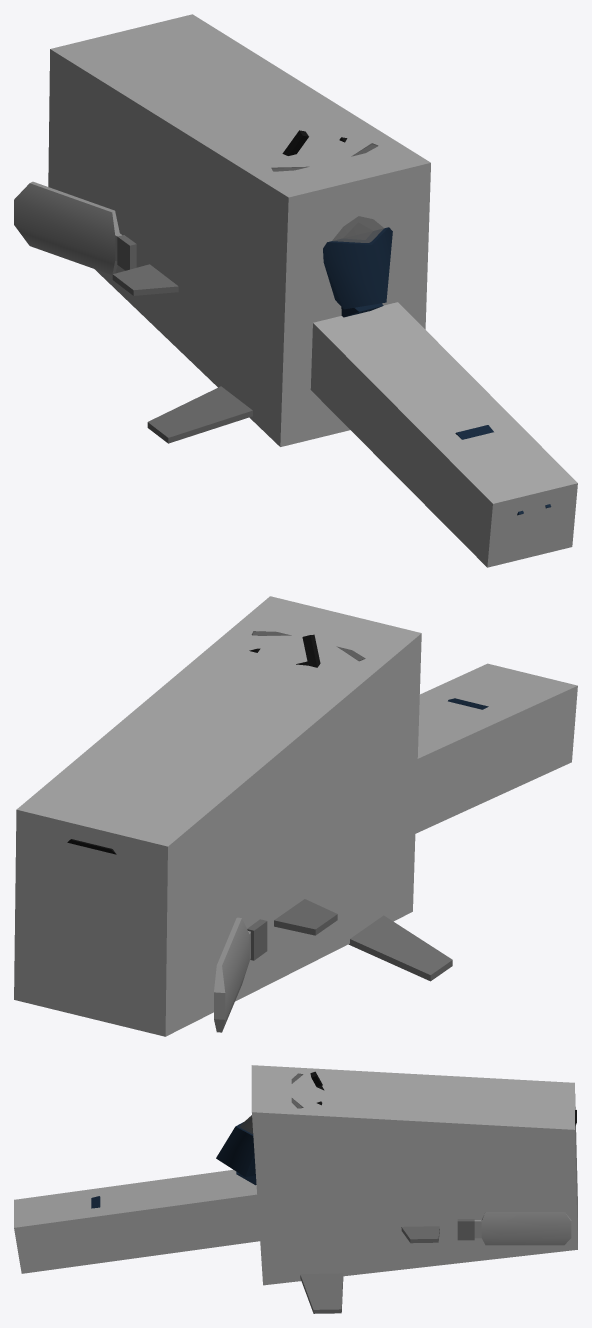
The model's file is Steer_left.fbx.
3 views of the same model, one above another, from view 1: azimuth 30°, elevation 25°; view 2: azimuth 150°, elevation 25°; view 3: azimuth 270°, elevation 25° (orthographic). The views are drawn at different scales.
Parts seen in each view (by area): view 1: CyberBike_Geo, Flap_R_geo, Main_geo, Wings_geo, Glass_geo; view 2: CyberBike_Geo, Wings_geo, Flap_R_geo, Engine_geo; view 3: CyberBike_Geo, Flap_L_geo, Wings_geo, Main_geo, Engine_geo.
Part boxes in pixels (x1,y1,x2,y2): CyberBike_Geo: (48, 14, 577, 567); Flap_R_geo: (14, 181, 121, 275); Main_geo: (323, 227, 551, 515); Wings_geo: (112, 264, 252, 443); Glass_geo: (271, 143, 384, 242); CyberBike_Geo: (14, 596, 577, 1036); Wings_geo: (274, 899, 452, 981); Flap_R_geo: (214, 917, 250, 1032); Engine_geo: (247, 919, 267, 960); CyberBike_Geo: (14, 1065, 577, 1285); Flap_L_geo: (474, 1212, 571, 1245); Wings_geo: (300, 1226, 439, 1313); Main_geo: (91, 1120, 256, 1208); Engine_geo: (457, 1219, 474, 1240).
Size of the model in its own units: 6.72 by 6.16 by 16.6.
